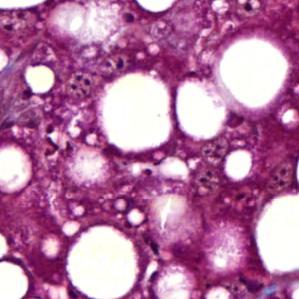steatosis: (95, 74, 178, 154), (62, 230, 144, 299), (220, 148, 257, 184)
